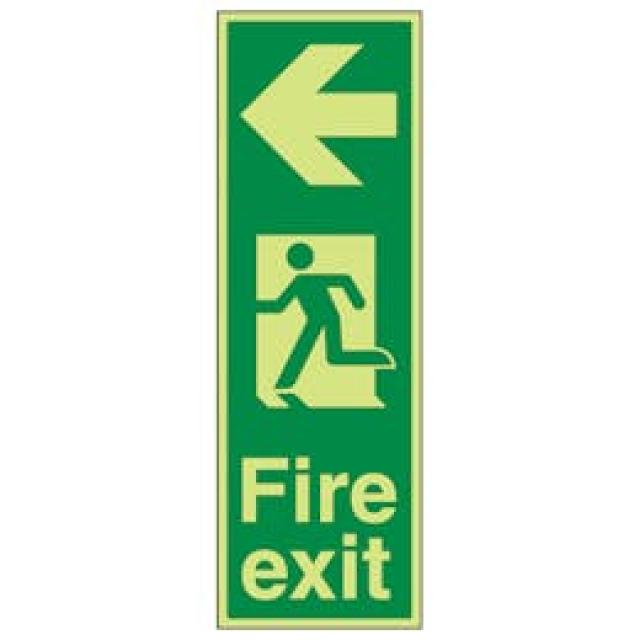exit_sign: (196, 8, 443, 640)
